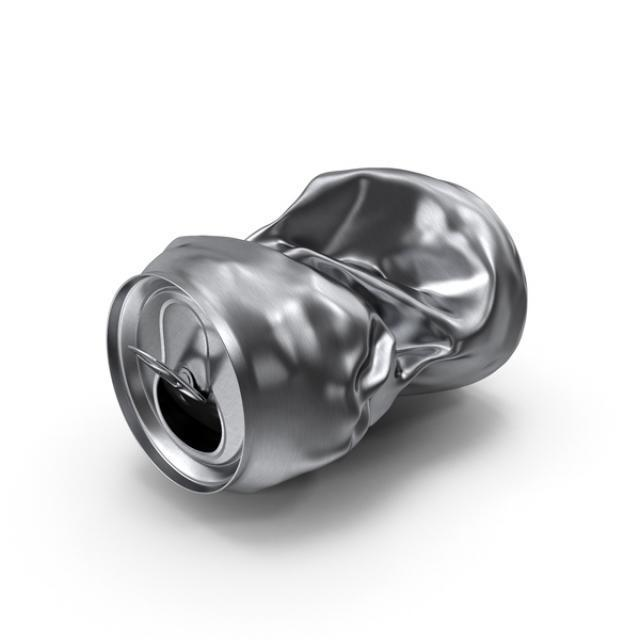metal-can: (105, 165, 531, 495)
